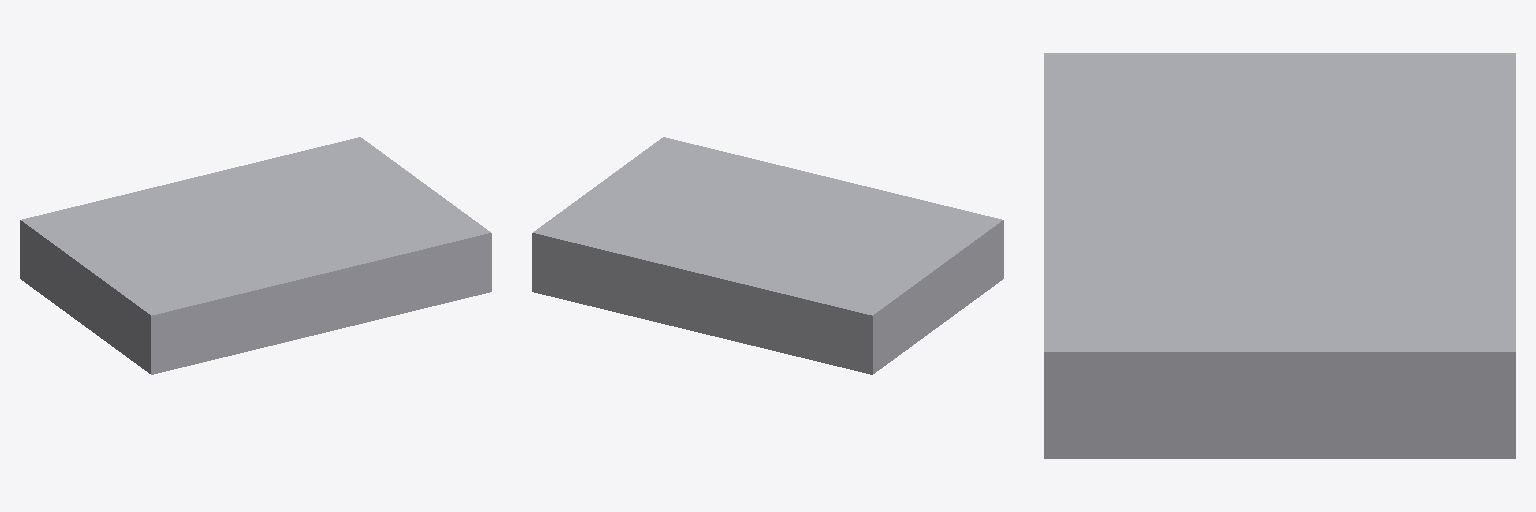
The robot description file, URDF, robot "box_base":
<?xml version="1.0"?>
<!-- rda_robot_assembler/mesh2urdf 가 자동 생성. 원본: box_base.stl
     강체 1링크(관절 없음). 관절이 필요하면 전용 CAD 익스포터를 쓰세요. -->
<robot name="box_base">
  <link name="box_base_link">
    <visual>
      <origin xyz="0 0 0" rpy="0 0 0"/>
      <geometry>
        <mesh filename="meshes/box_base_visual.stl"/>
      </geometry>
      <material name="box_base_material">
        <color rgba="0.75 0.75 0.78 1.0"/>
      </material>
    </visual>
    <collision>
      <origin xyz="0 0 0" rpy="0 0 0"/>
      <geometry>
        <mesh filename="meshes/box_base_collision.stl"/>
      </geometry>
    </collision>
    <inertial>
      <origin xyz="0.000000 0.000000 0.050000" rpy="0 0 0"/>
      <mass value="64.800000"/>
      <inertia ixx="0.91800000" ixy="-0.00000000" ixz="-0.00000000" iyy="1.99800000" iyz="-0.00000000" izz="2.80800000"/>
    </inertial>
  </link>
</robot>

--- Facts derived from the render (not from the file) ---
Views: 3 orthographic renders of the robot side by side, from view 1: azimuth 30°, elevation 25°; view 2: azimuth 150°, elevation 25°; view 3: azimuth 270°, elevation 25°.
Robot: box_base — 1 links, 0 joints (none); root link box_base_link; default pose: every joint at zero.
Visible links, largest first — view 1: box_base_link; view 2: box_base_link; view 3: box_base_link.
Boxes of the visible links, x1,y1,x2,y2 form: box_base_link: [20, 137, 491, 374]; box_base_link: [532, 137, 1003, 374]; box_base_link: [1044, 53, 1515, 458].
Bounding box of the posed robot: 0.6 × 0.4 × 0.1 m (x, y, z).
1 mesh visuals loaded from 1 distinct referenced files (1 binary STL).
